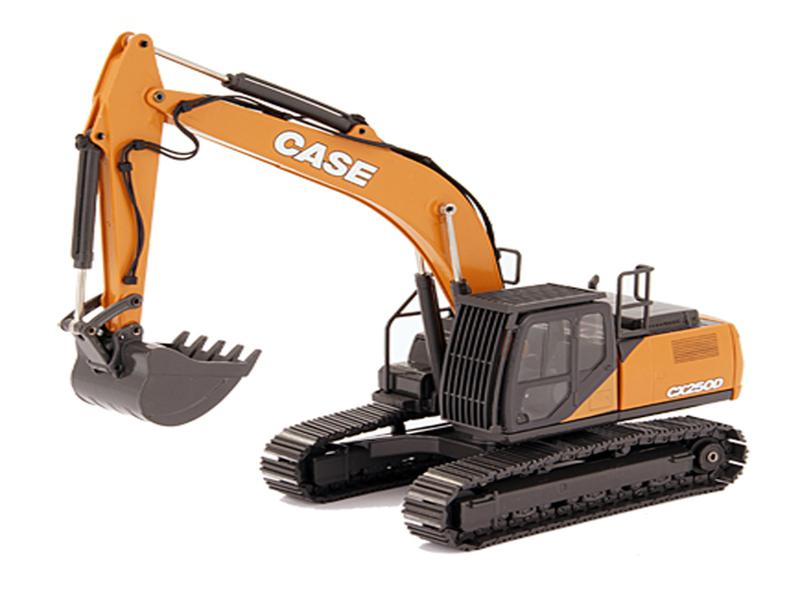shovel: (60, 24, 750, 551)
